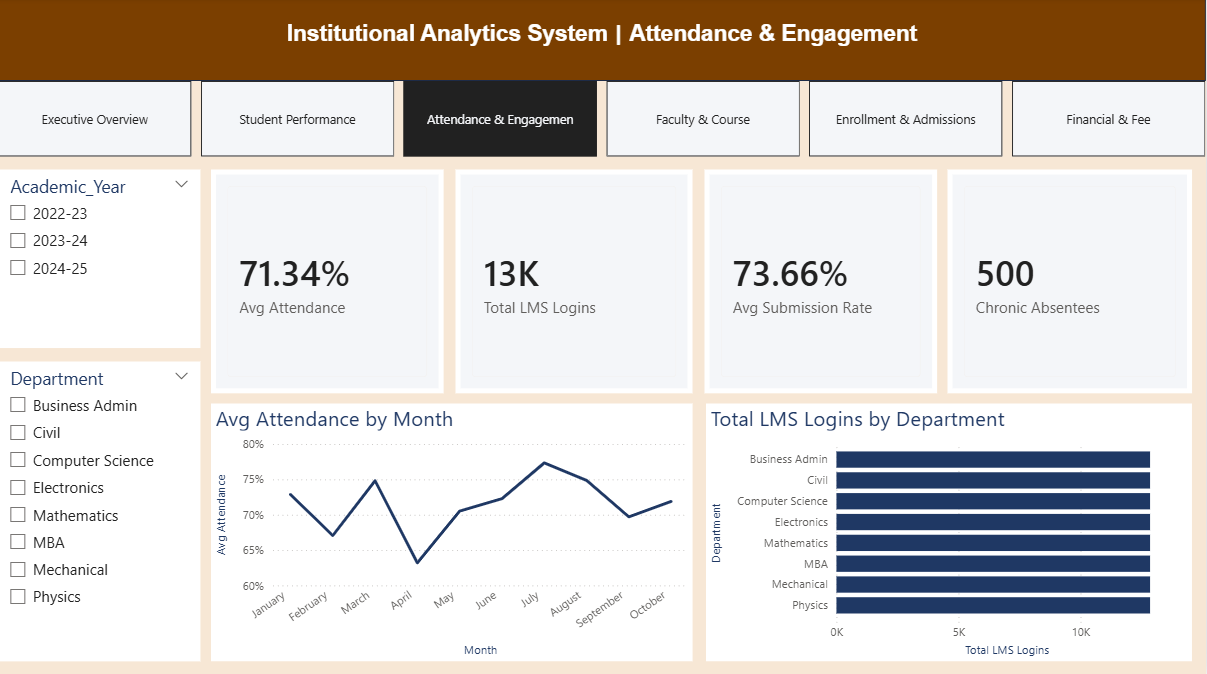

Layout of this report page (visuals, bound fields, positions):
{"tool":"powerbi","page":{"name":"Attendance & Engagemen","canvas":[1280,720],"ordinal":2},"visuals":[{"type":"shape","box":[0,0,1280.8,89.1],"z":0},{"type":"textbox","box":[0,19.4,1280.8,69.6],"z":1000},{"type":"pageNavigator","box":[0,89.1,1280.8,81],"z":2000},{"type":"slicer","fields":{"Values":["Students_Master.Academic_Year"]},"box":[0,182.9,214.7,189.3],"z":3000},{"type":"slicer","fields":{"Values":["Students_Master.Department"]},"box":[0,386.5,214.7,318.1],"z":4000},{"type":"cardVisual","fields":{"Data":["Admissions.Avg Attendance"]},"box":[225.9,182.9,246.5,237],"z":5000},{"type":"cardVisual","fields":{"Data":["Admissions.Total LMS Logins"]},"box":[485.1,182.9,251.3,237],"z":6000},{"type":"cardVisual","fields":{"Data":["Admissions.Avg Submission Rate"]},"box":[749.2,182.9,246.5,237],"z":7000},{"type":"cardVisual","fields":{"Data":["Admissions.Chronic Absentees"]},"box":[1006.9,182.9,259.3,237],"z":8000},{"type":"lineChart","fields":{"Category":["Attendance.Month"],"Y":["Admissions.Avg Attendance"]},"box":[225.9,431.1,510.6,273.6],"z":9000},{"type":"clusteredBarChart","fields":{"Category":["Admissions.Department"],"Y":["Admissions.Total LMS Logins"]},"box":[750.8,431.1,515.4,273.6],"z":10000}]}

Visuals, with their boxes in screenshot pixels (x1, y1, x2, y2), scaled from the page's 1280x720 canvas onto the 1207x674 screenshot:
shape: left=0, top=0, right=1206, bottom=83
textbox: left=0, top=18, right=1206, bottom=83
pageNavigator: left=0, top=83, right=1206, bottom=159
slicer - Students_Master.Academic_Year: left=0, top=171, right=202, bottom=348
slicer - Students_Master.Department: left=0, top=362, right=202, bottom=660
cardVisual - Admissions.Avg Attendance: left=213, top=171, right=445, bottom=393
cardVisual - Admissions.Total LMS Logins: left=457, top=171, right=694, bottom=393
cardVisual - Admissions.Avg Submission Rate: left=706, top=171, right=939, bottom=393
cardVisual - Admissions.Chronic Absentees: left=949, top=171, right=1194, bottom=393
lineChart - Attendance.Month x Admissions.Avg Attendance: left=213, top=404, right=694, bottom=660
clusteredBarChart - Admissions.Department x Admissions.Total LMS Logins: left=708, top=404, right=1194, bottom=660
